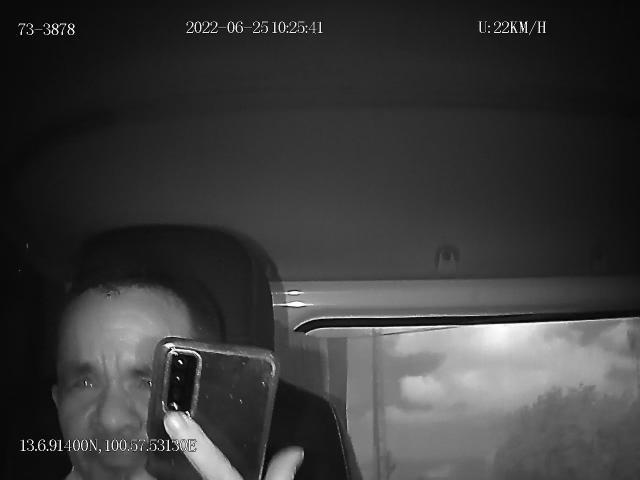PhoneUse: (146, 336, 280, 480)
SafeDriving: (65, 364, 105, 400)
